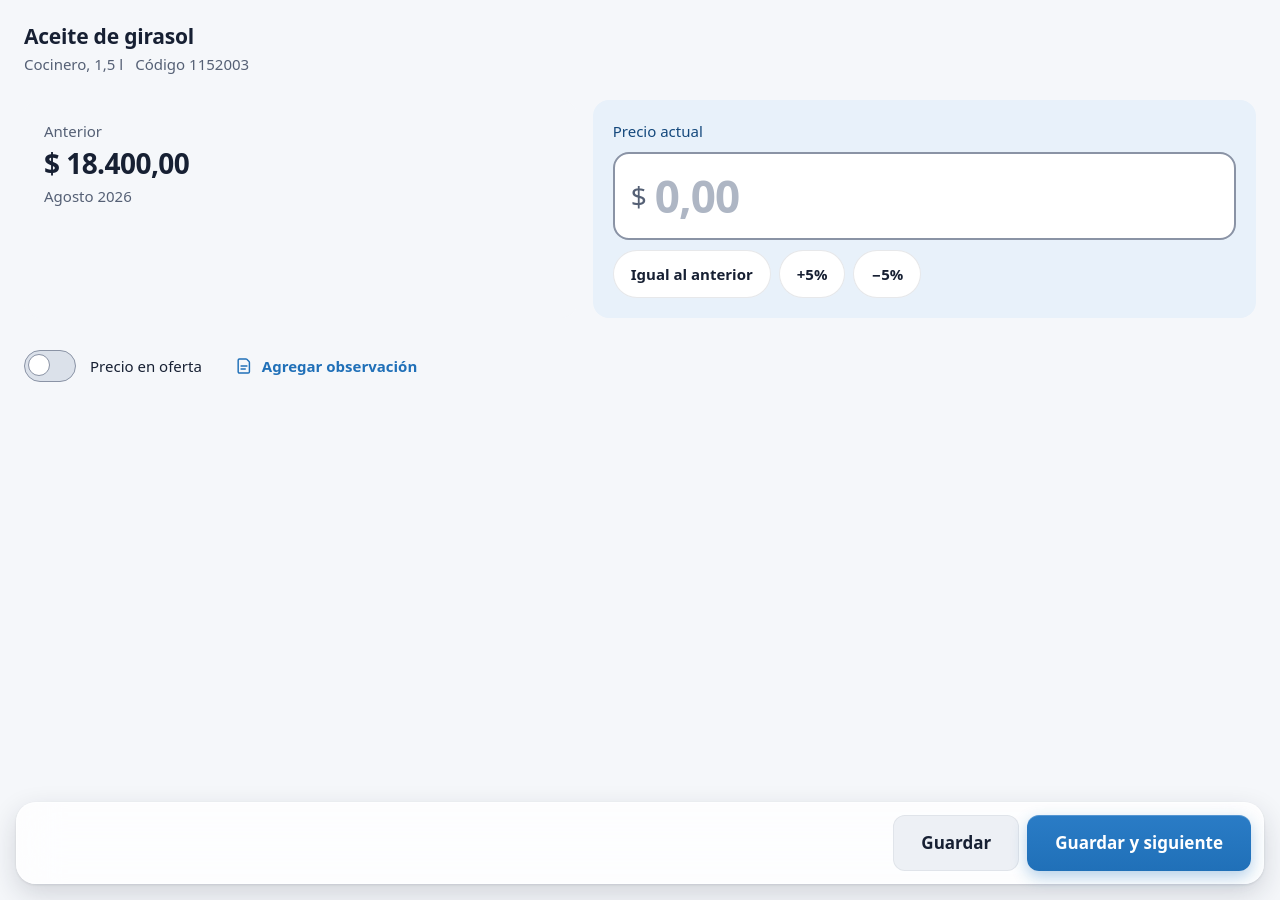
Test: PriceEditor › fills the field from the quick chips with rounded values
Click the button "+5%".
click(812, 274)  # box [779, 250, 846, 298]
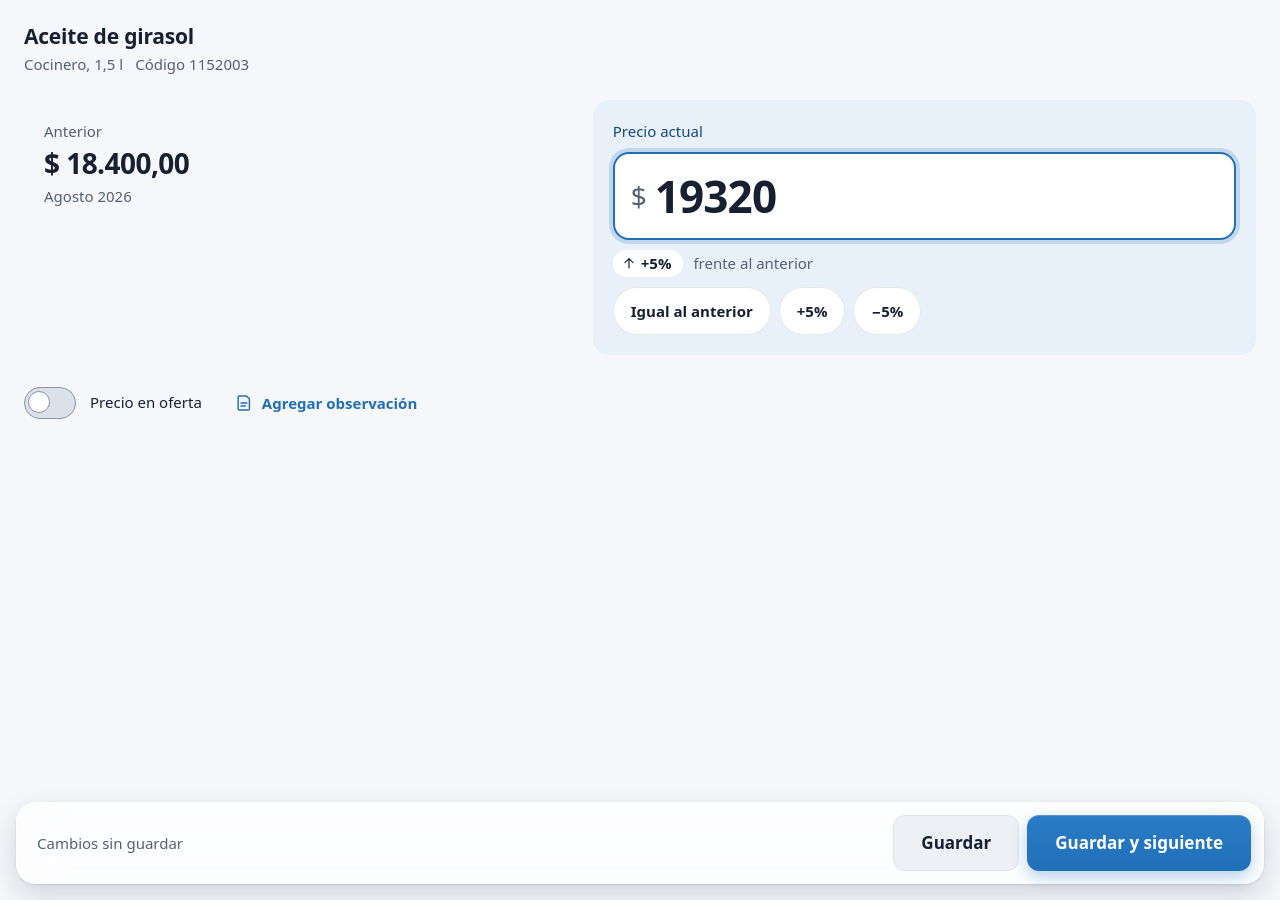
Result: the field labelled "Precio actual" holds "19320" at [655, 170, 1218, 223]
Click the button "−5%".
click(887, 311)  # box [853, 287, 921, 335]
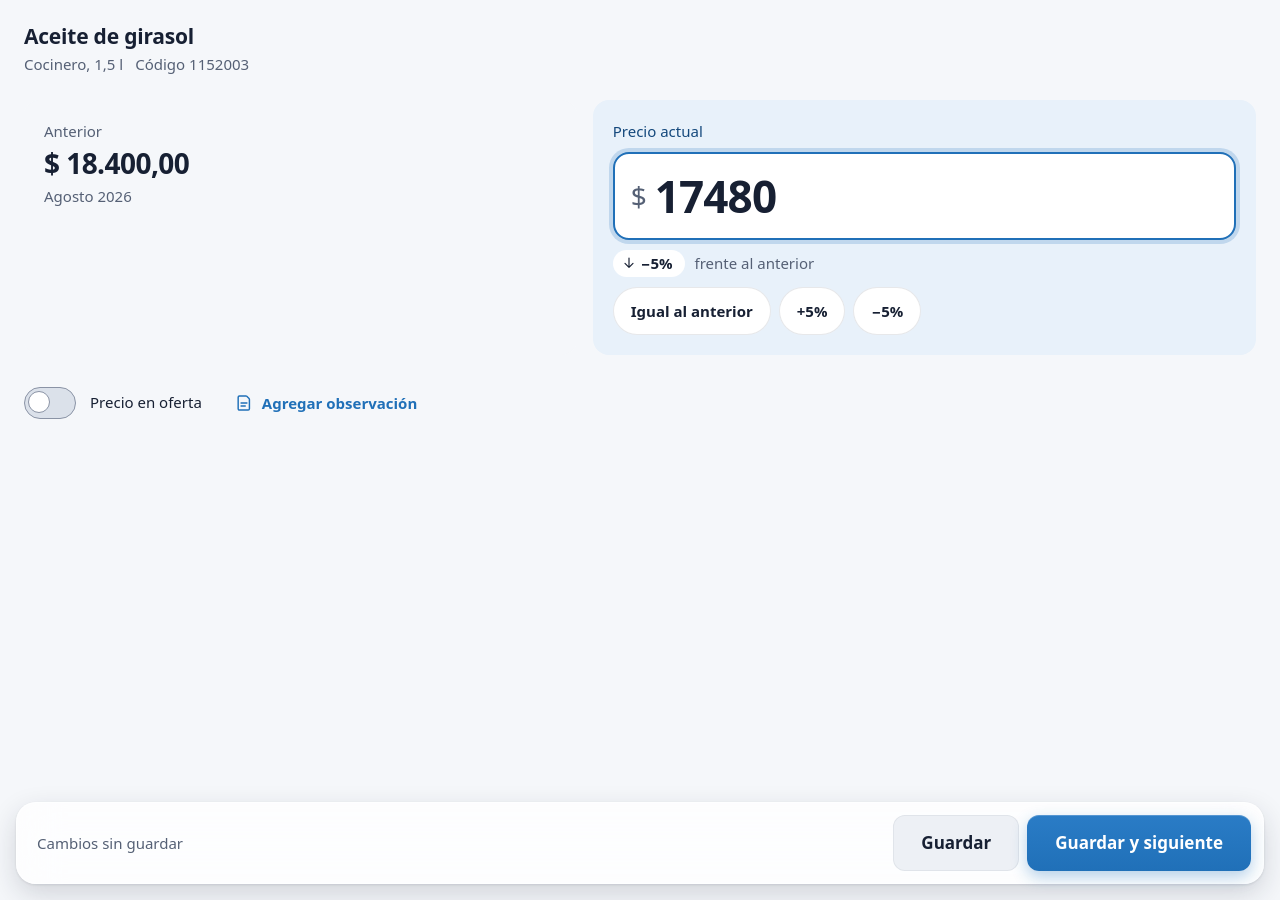
Result: the field labelled "Precio actual" holds "17480" at [655, 170, 1218, 223]
Click the button "Igual al anterior".
click(692, 311)  # box [613, 287, 771, 335]
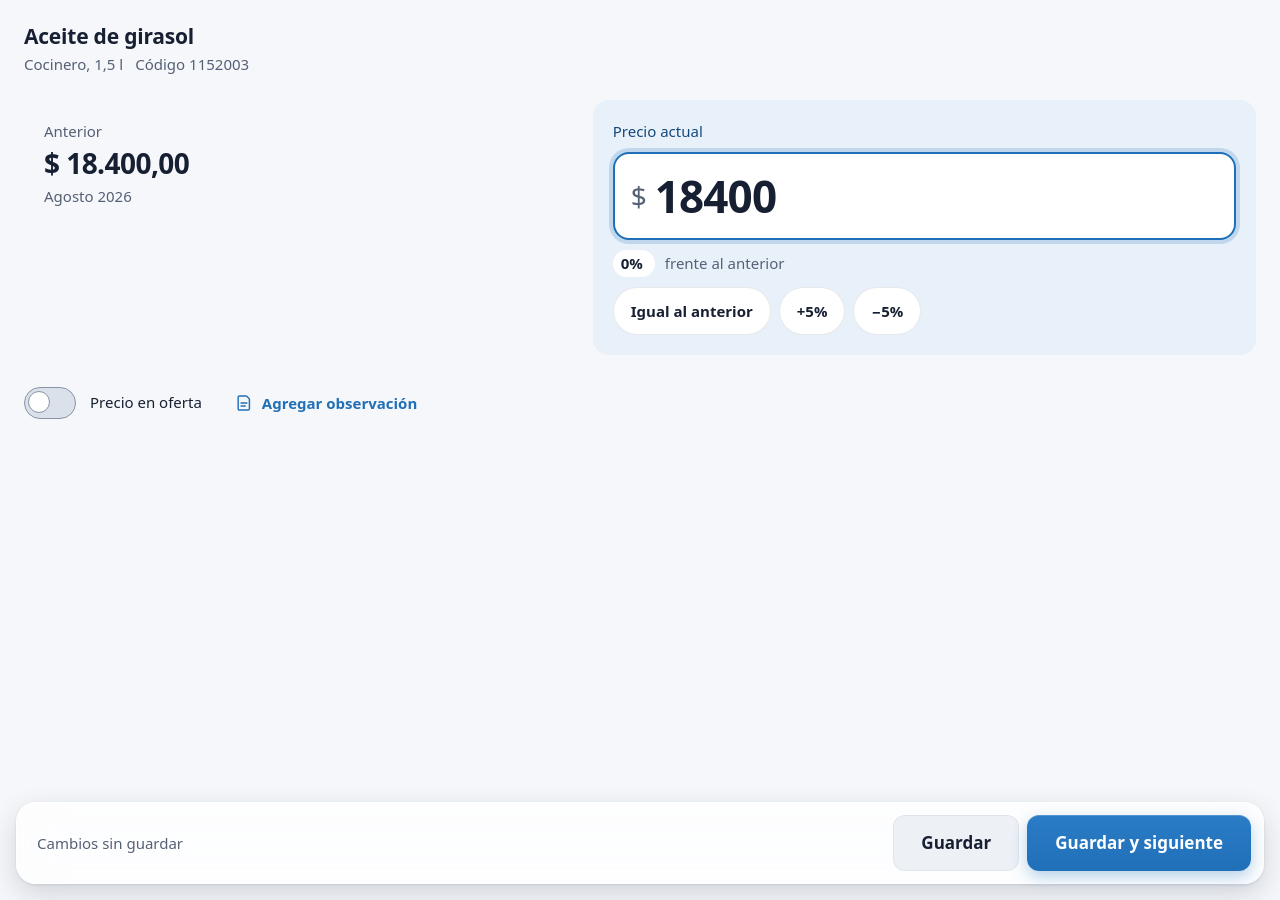
Result: the field labelled "Precio actual" holds "18400" at [655, 170, 1218, 223]
